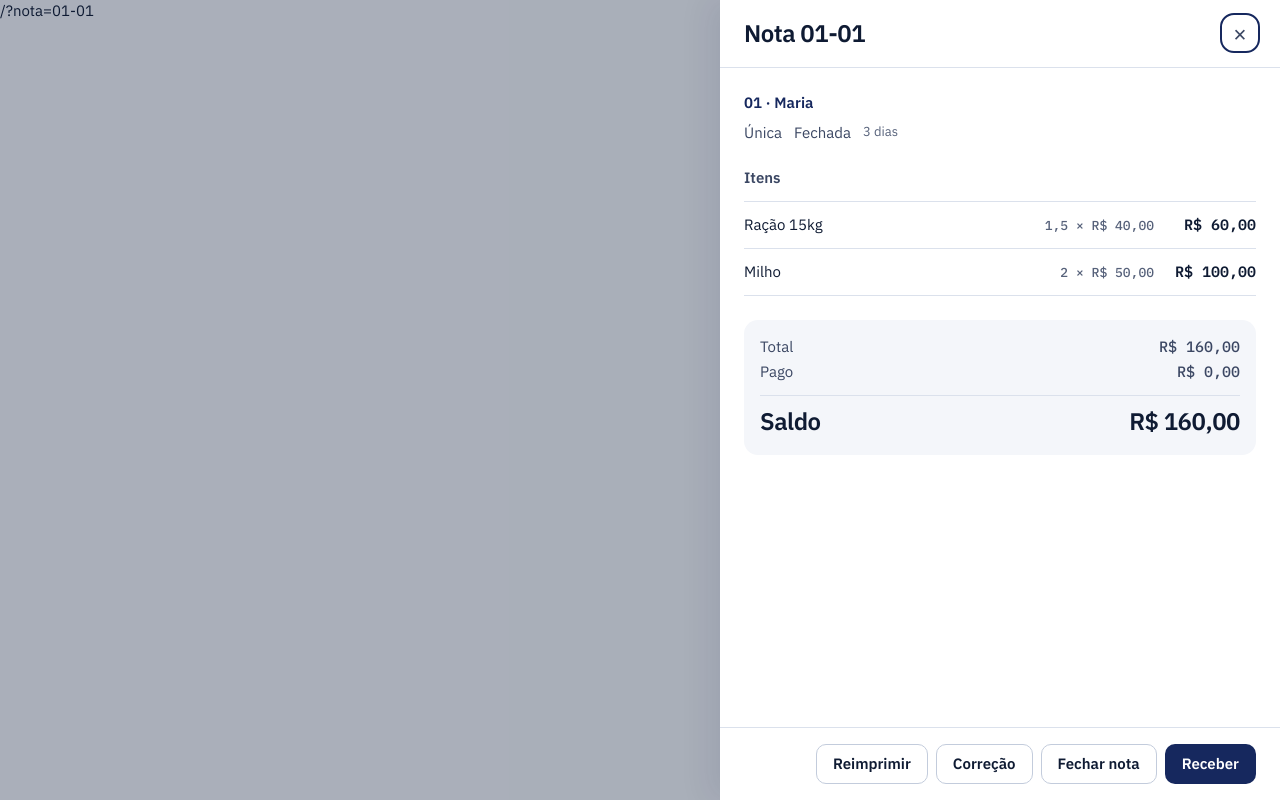
it: atalho R na gaveta da nota › não abre enquanto uma gravação da nota está pendente
This screenshot has width=1280, height=800.
Click the button "Fechar nota".
click(1099, 764)  # box x1=1040 y1=744 x2=1157 y2=784
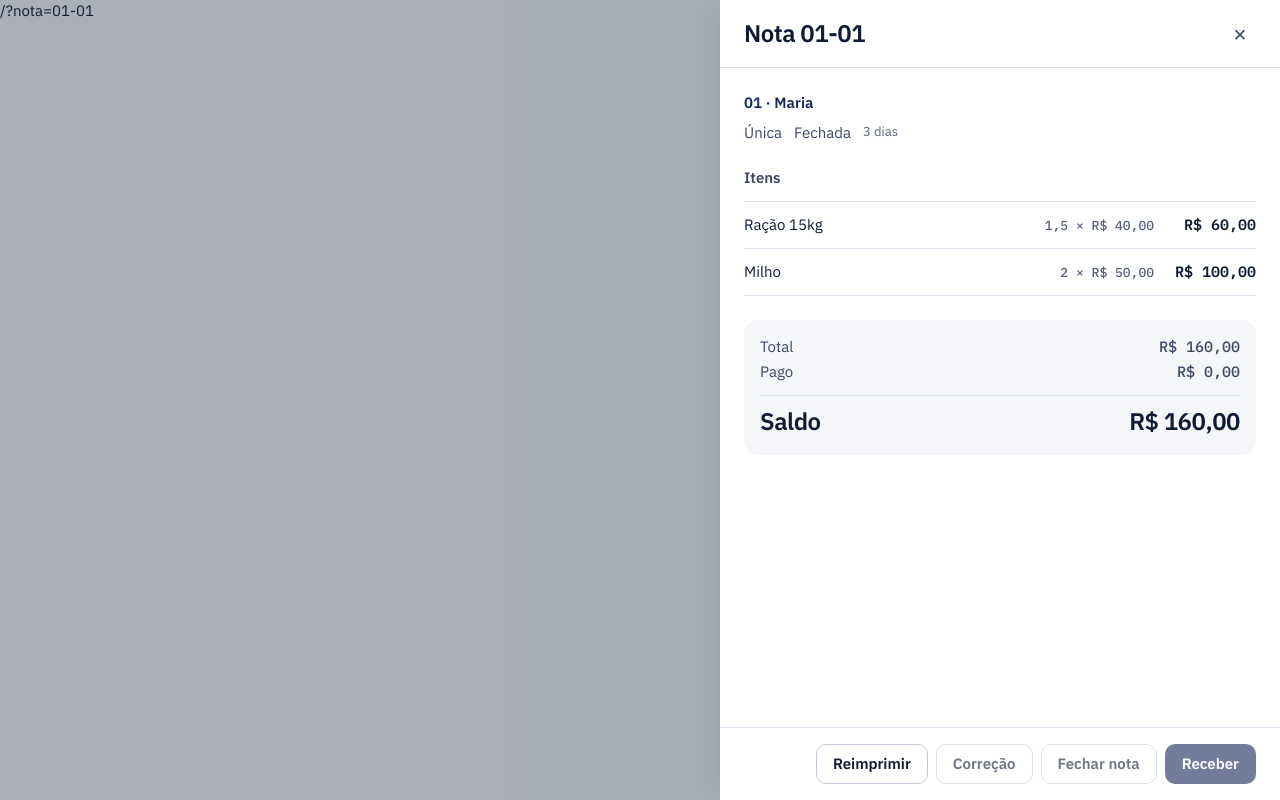
Result: the button "Receber" is disabled at x1=1165 y1=744 x2=1256 y2=784
Type keys "r"
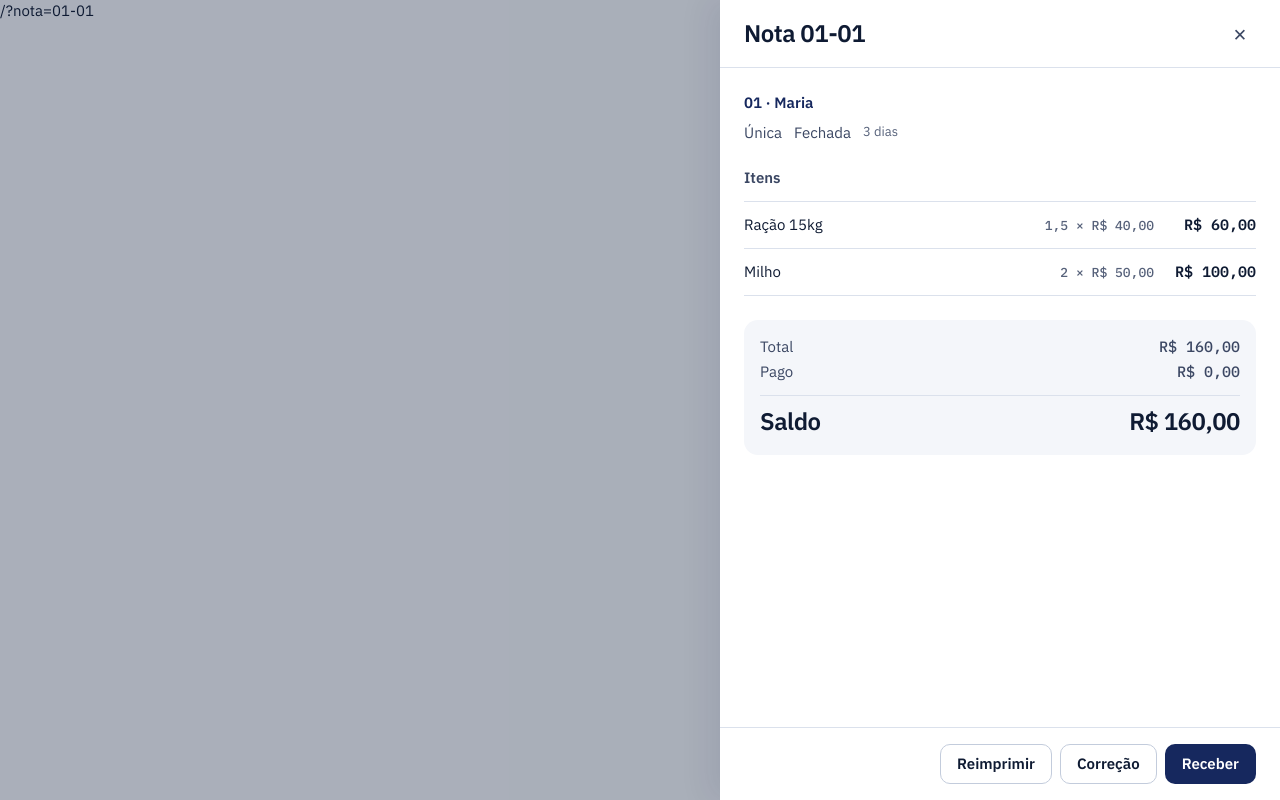
Result: the button "Receber" is enabled at x1=1165 y1=744 x2=1256 y2=784
